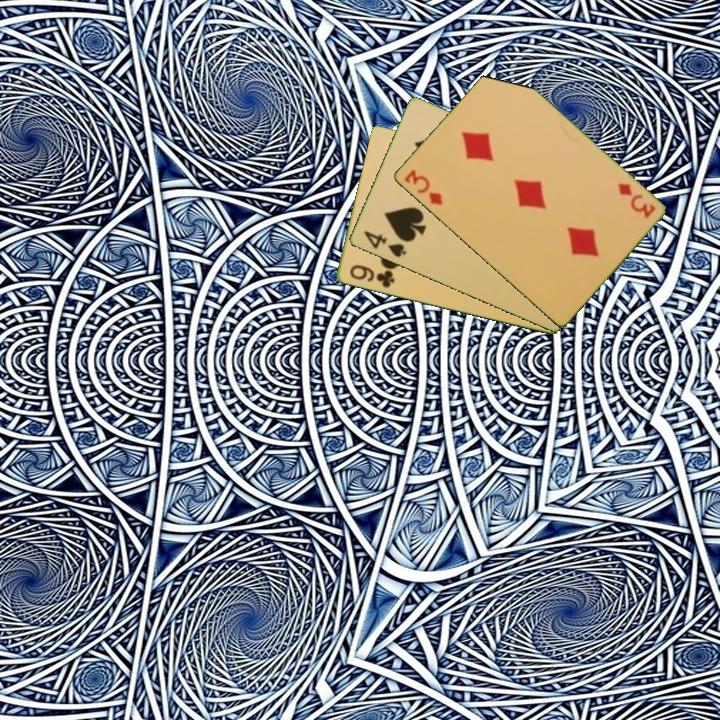3d: (400, 166, 445, 208), (614, 179, 658, 221)
4s: (360, 227, 409, 260)
9c: (346, 261, 397, 291)
